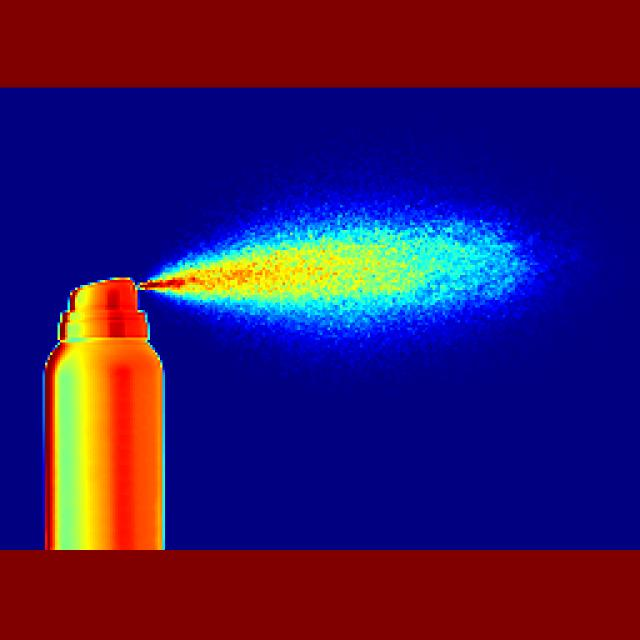Aerosol Cans: (44, 270, 182, 571)
